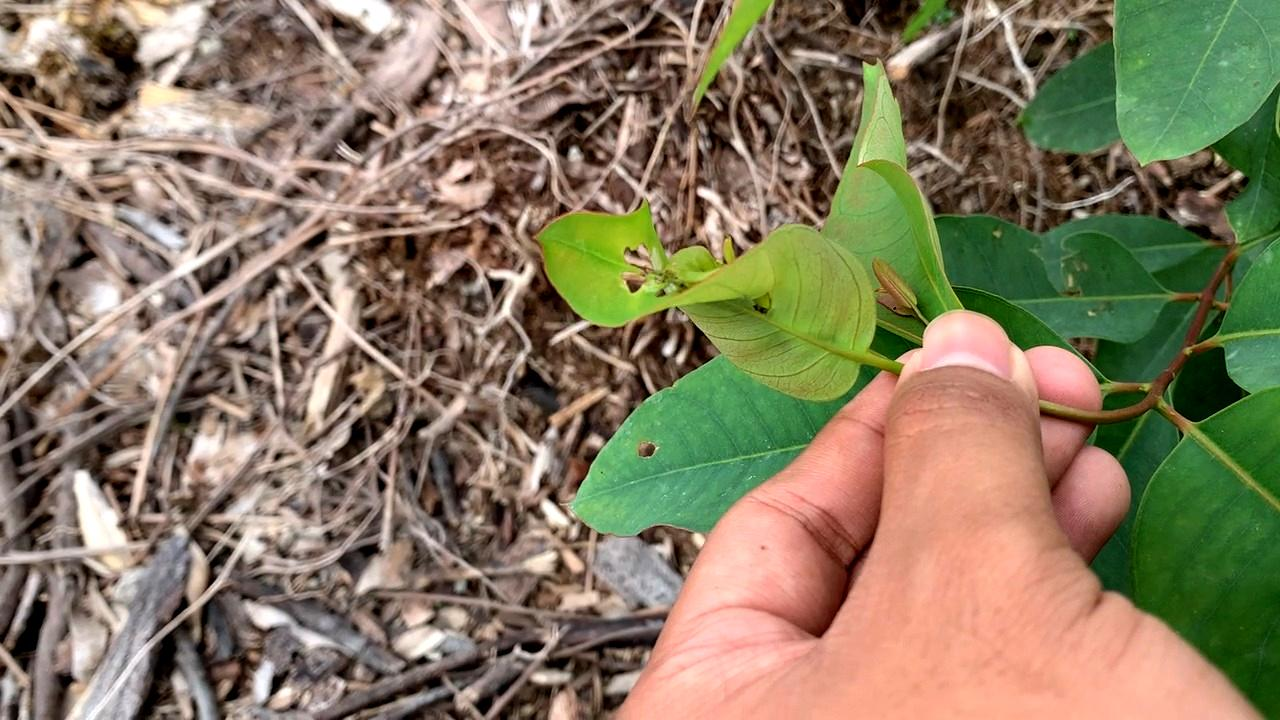Leaf Roller - Leaf: (535, 189, 875, 405)
